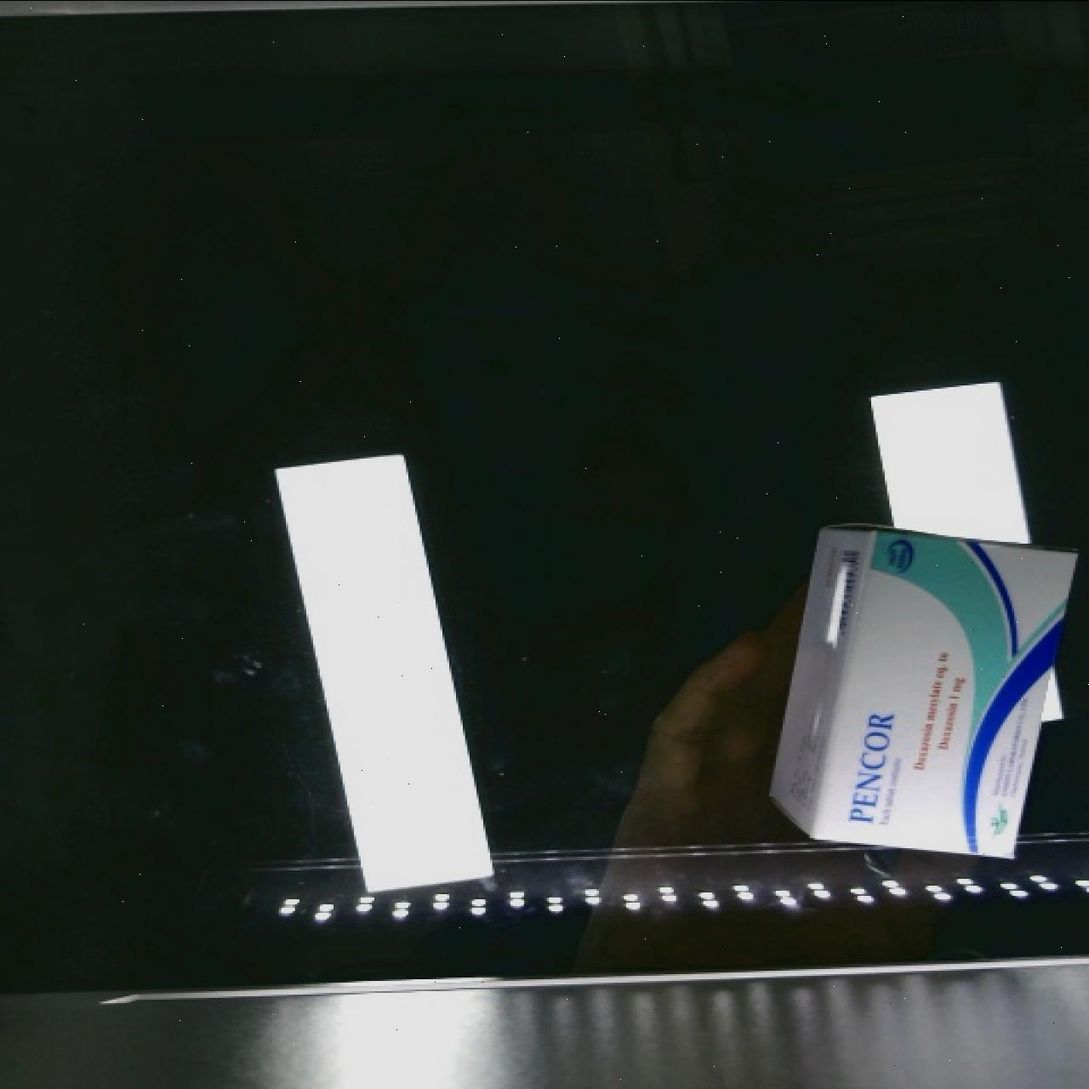medicine_label_obb: (812, 684, 916, 854)
